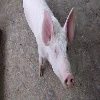heo: (35, 6, 77, 90)
